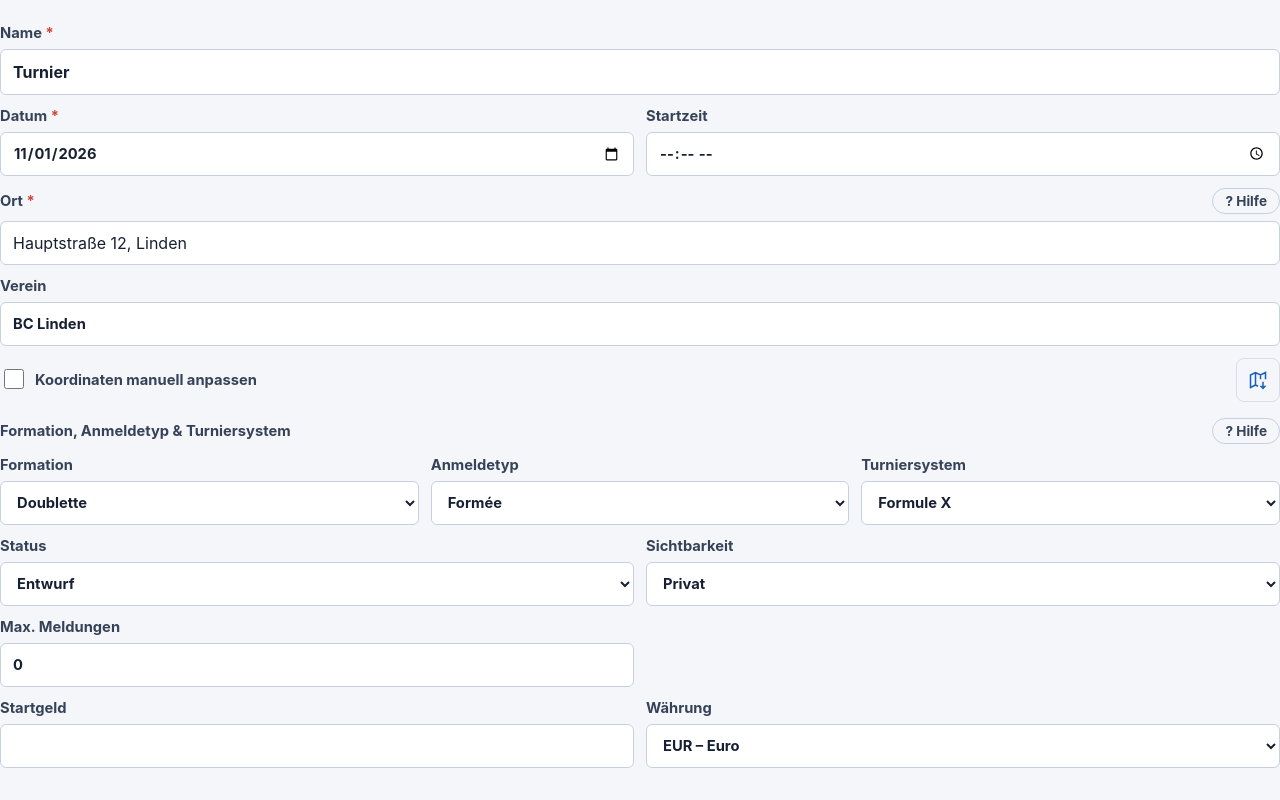
Test: Turnierort in einem Suchfeld › öffnet die Hilfe direkt hinter Ort und erhält die Formulardaten (create, Anmeldung true)
This screenshot has width=1280, height=800.
Click the button with aria-label "Hilfe zu Ort, Verein und Koordinaten" at (1246, 201), box x1=1212 y1=188 x2=1279 y2=214
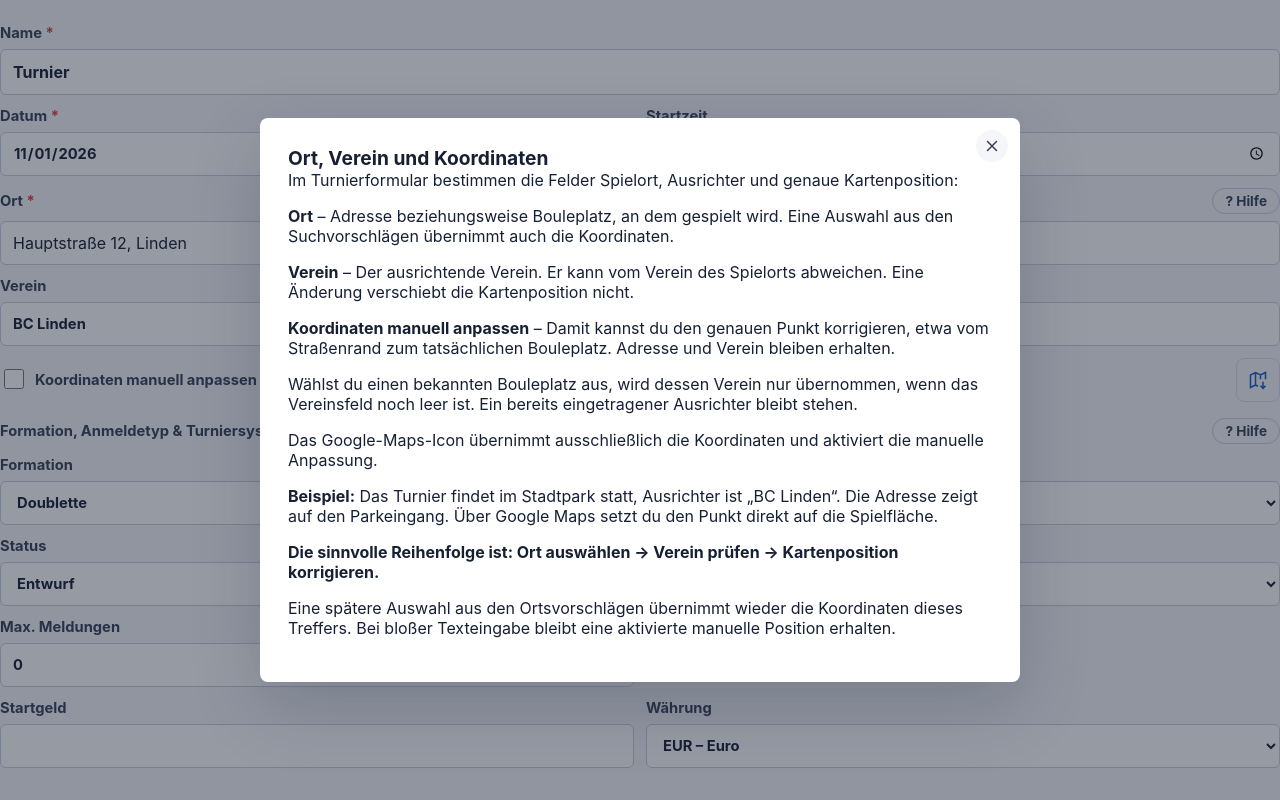
Result: the text "wenn das Vereinsfeld noch leer ist" is shown at x1=288 y1=374 x2=978 y2=414
Result: the text "Google-Maps-Icon übernimmt ausschließlich" is shown at x1=288 y1=430 x2=984 y2=470
Result: the text "Stadtpark" is shown at x1=288 y1=486 x2=978 y2=526
Click the button named "Schließen" at (992, 146), box x1=976 y1=130 x2=1008 y2=162
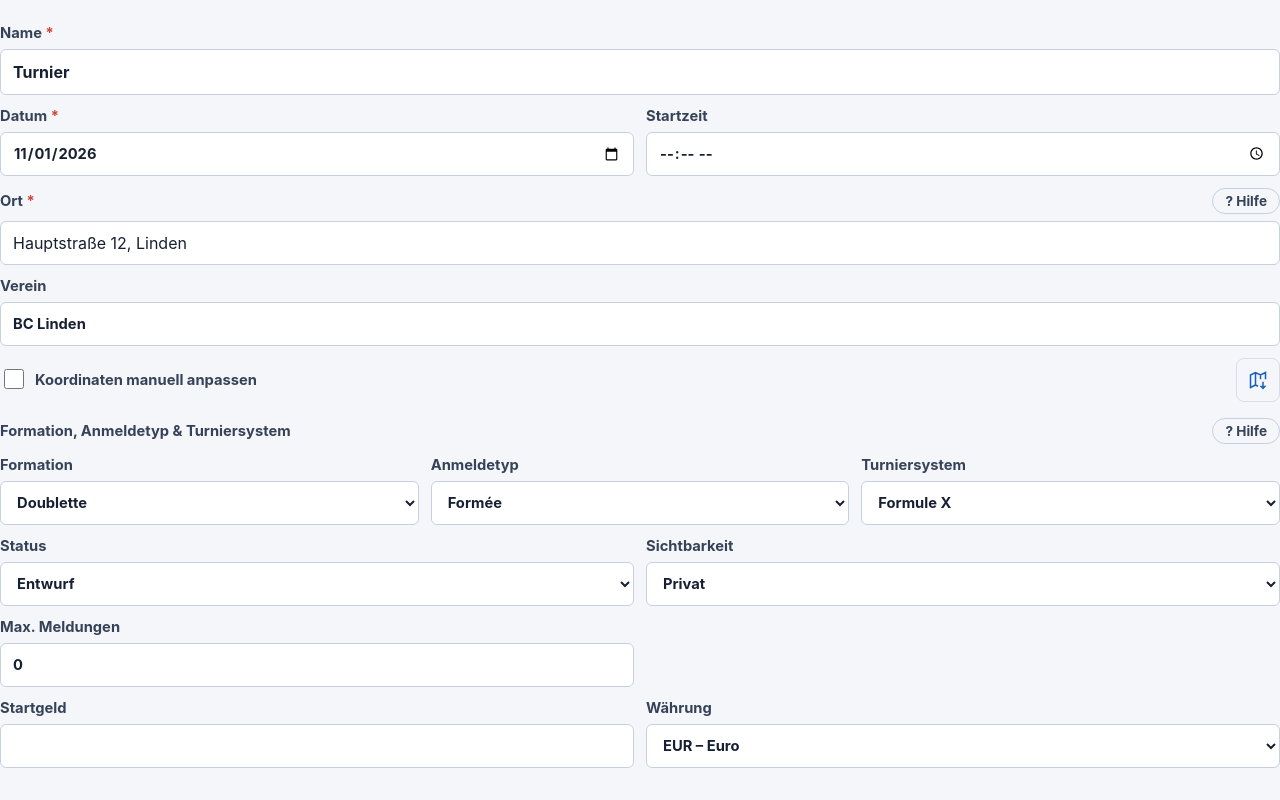
Expected: the dropdown labelled "Ort" holds "Hauptstraße 12, Linden", x1=0 y1=221 x2=1279 y2=265
Result: the dialog is gone
